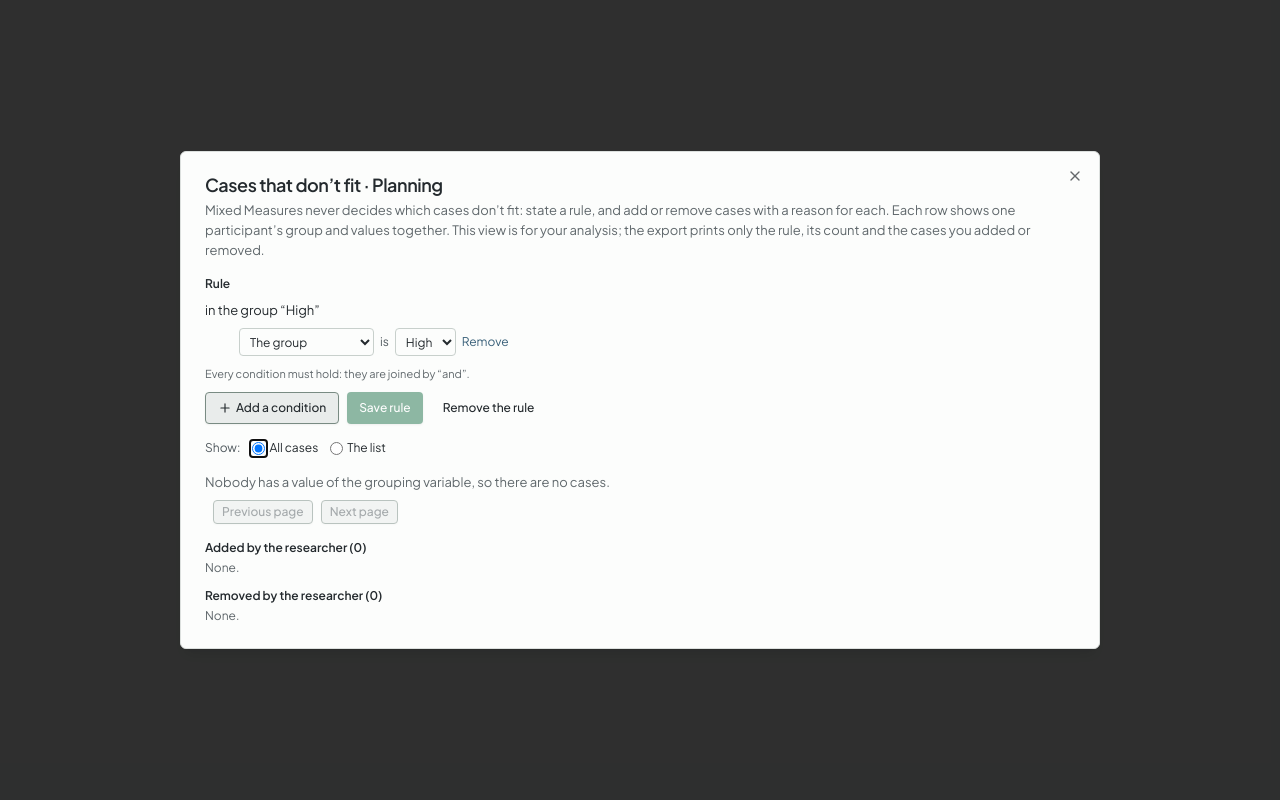
#1661 — the sentence is the DRAFT’s, never the saved rule’s, once the lines are drawn › removing the saved rule’s only line: "No rule stated", not the saved rule above an empty list
The width and height of the screenshot is (1280, 800).
Click the button "Remove" at (485, 342), box [462, 334, 509, 350]
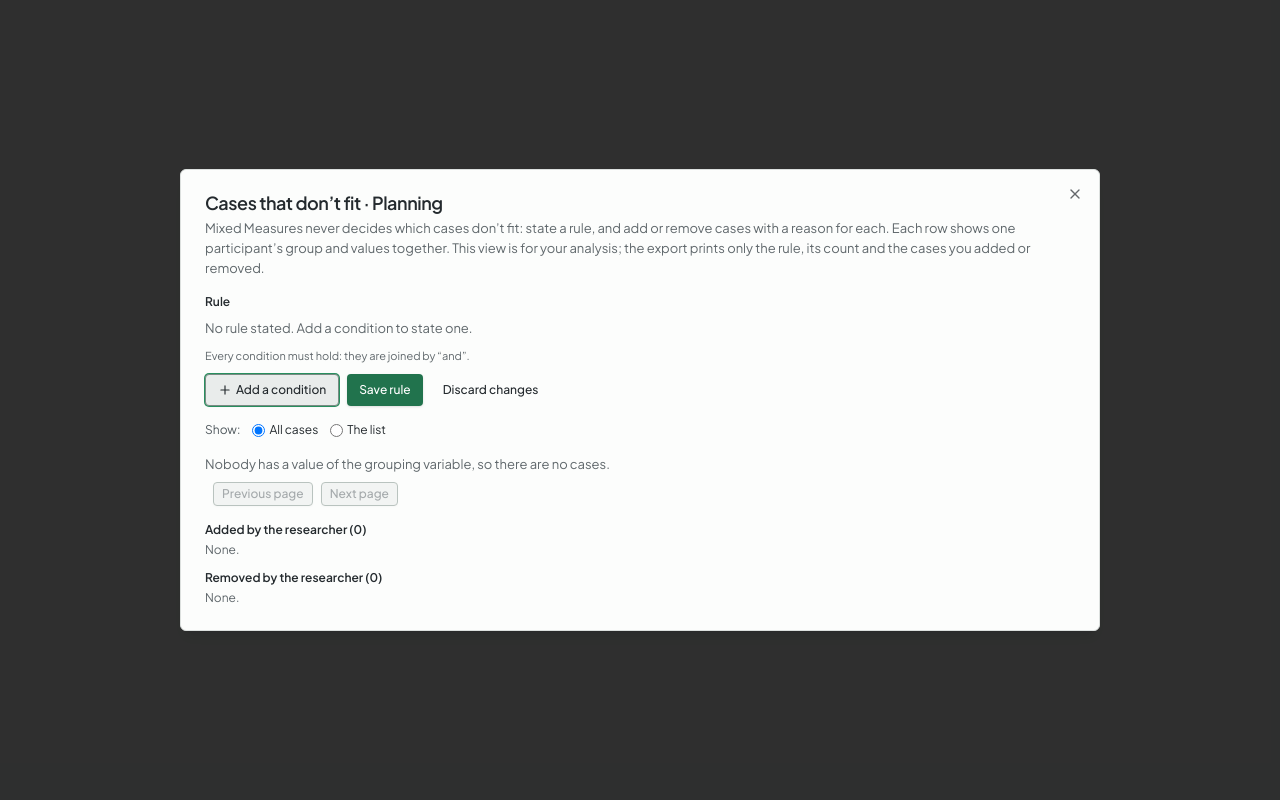
Now the text "No rule stated. Add a condition to state one." is shown, box [205, 320, 473, 336]
